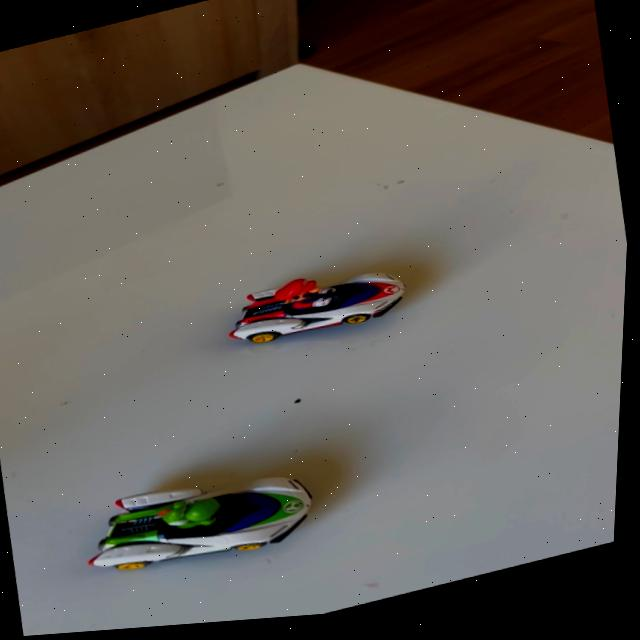mario: (212, 247, 435, 374)
yoshi: (74, 439, 343, 600)
